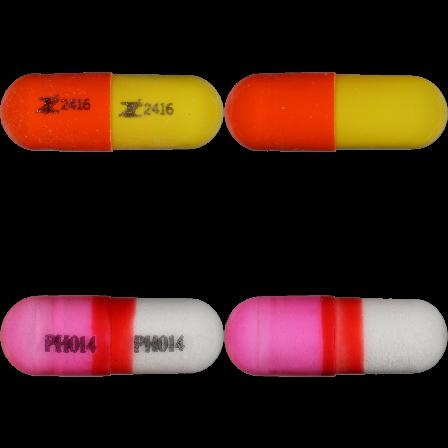21695-302: (0, 0, 224, 224)
